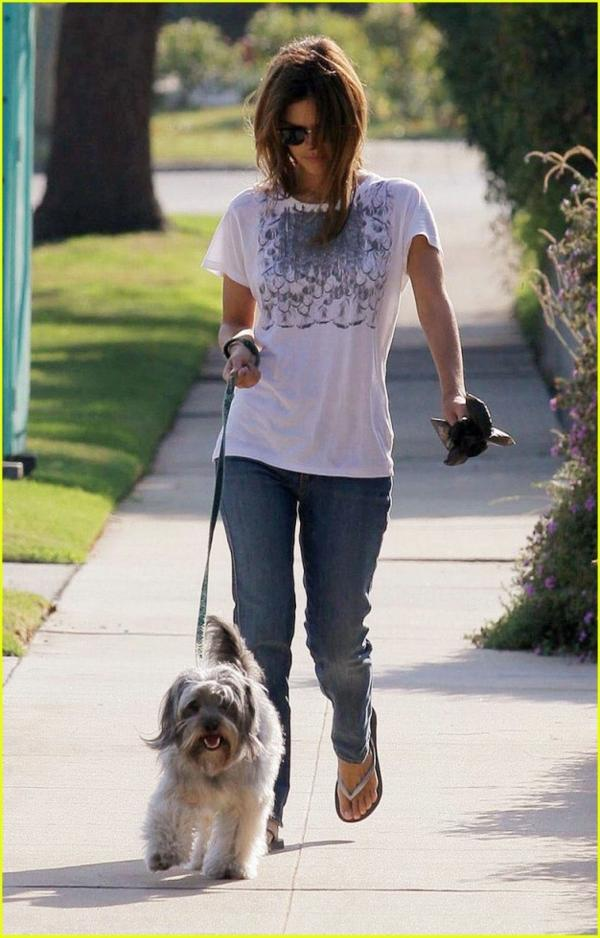person: (225, 35, 472, 838)
